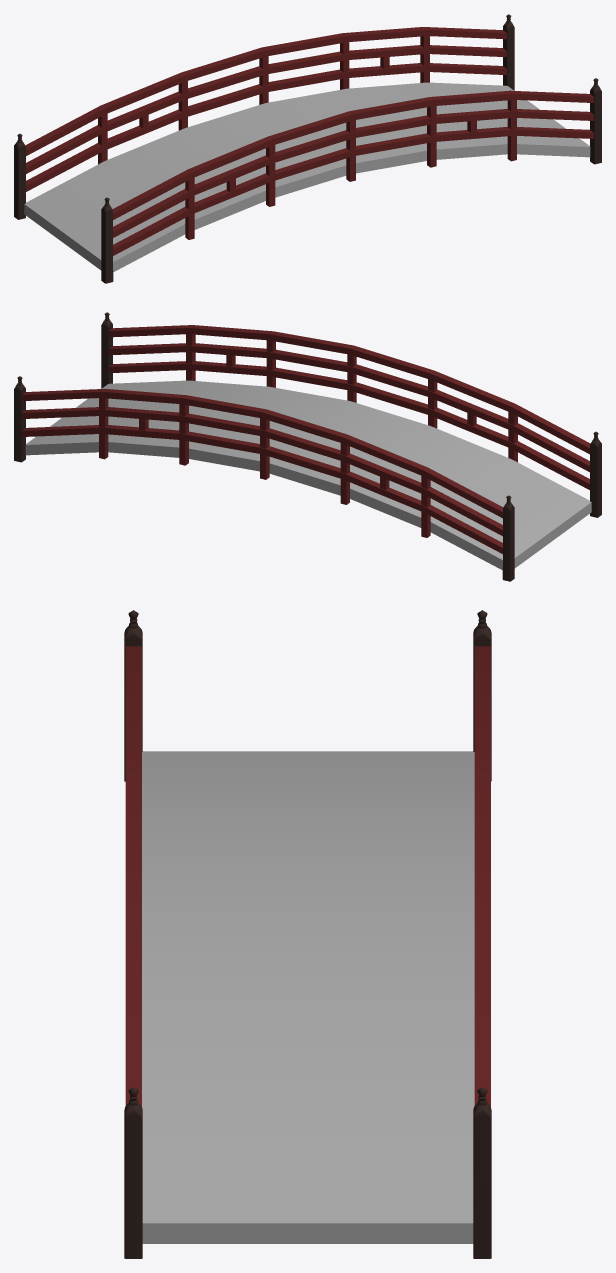
Rendered from Bridge.fbx.
The picture shows the model from 3 angles, top to bottom: view 1: azimuth 30°, elevation 25°; view 2: azimuth 150°, elevation 25°; view 3: azimuth 270°, elevation 25°; orthographic projection. The views are drawn at different scales.
Parts seen in each view (by area): view 1: polySurface197, pCube95, polySurface218; view 2: polySurface197, pCube95, polySurface218; view 3: pCube95, polySurface197, polySurface218.
Boxes of the visible parts, bbox=[...] form: polySurface197: bbox=[25, 27, 593, 255]; pCube95: bbox=[24, 82, 590, 271]; polySurface218: bbox=[14, 14, 601, 283]; polySurface197: bbox=[21, 325, 590, 553]; pCube95: bbox=[25, 380, 591, 569]; polySurface218: bbox=[14, 312, 601, 581]; pCube95: bbox=[142, 751, 474, 1243]; polySurface197: bbox=[125, 646, 490, 1106]; polySurface218: bbox=[124, 610, 491, 1258].
Size of the model in its own units: 1027 by 215 by 329.
